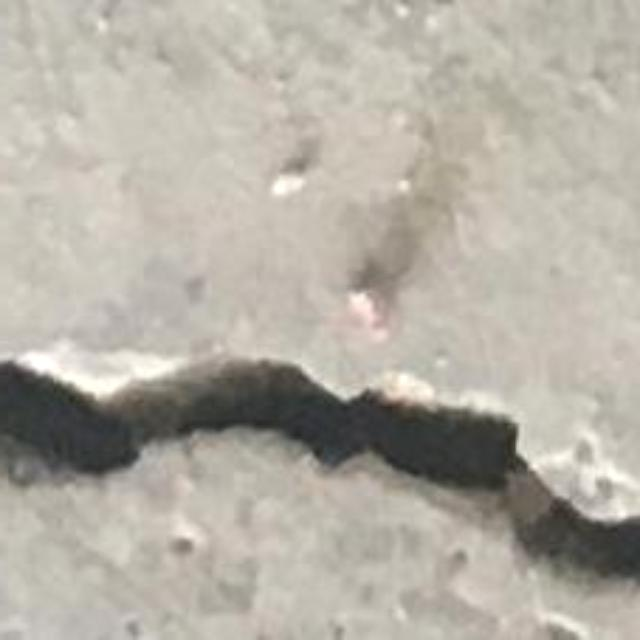crack: (0, 344, 639, 583)
